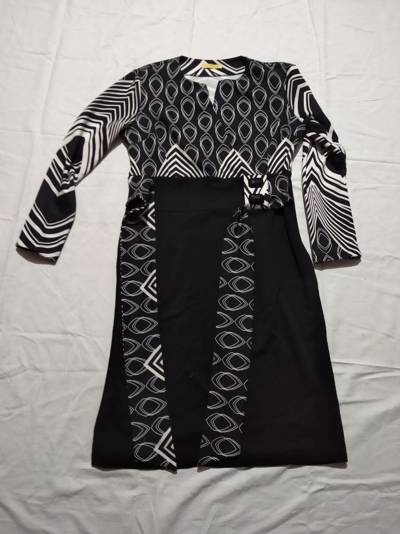Dress: (23, 39, 375, 491)
